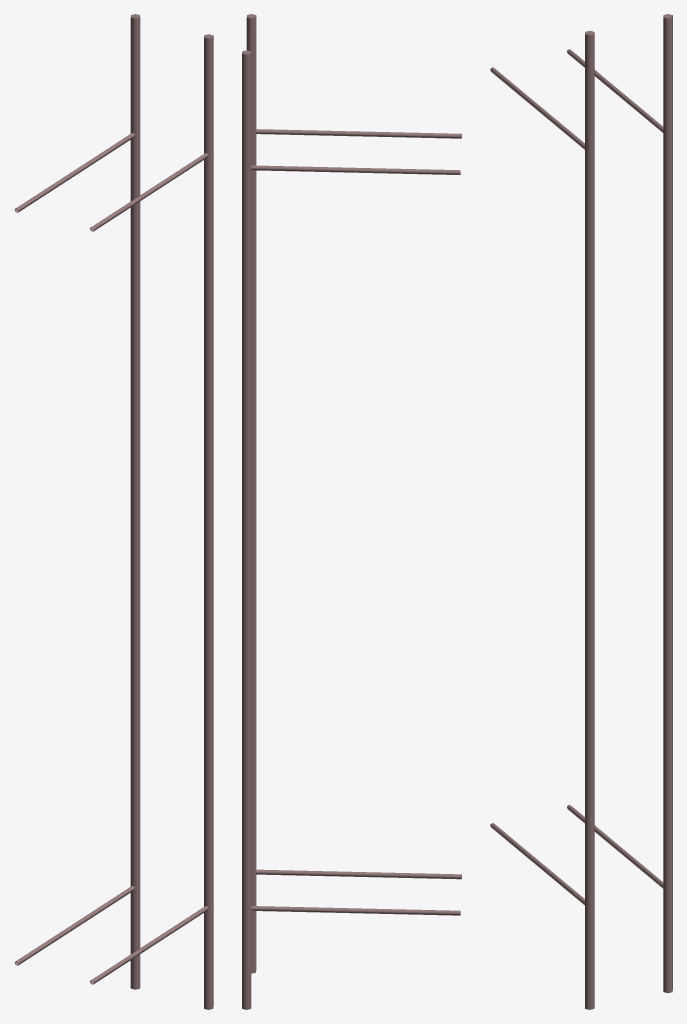
Rendered from sewer ladder tile lod1.FBX.
3 renders of one model, left to right at view 1: azimuth 30°, elevation 25°; view 2: azimuth 150°, elevation 25°; view 3: azimuth 270°, elevation 25°, orthographic. The views are drawn at different scales.
Parts seen in each view (by area): view 1: Cylinder382; view 2: Cylinder382; view 3: Cylinder382.
Boxes of the visible parts, bbox=[...] form: Cylinder382: bbox=[14, 14, 213, 1009]; Cylinder382: bbox=[242, 14, 461, 1009]; Cylinder382: bbox=[490, 14, 672, 1009].
Size of the model in its own units: 0.8966 by 4 by 0.6796.
